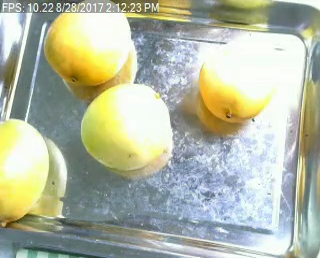Mango: (79, 85, 171, 167), (43, 0, 132, 83), (197, 37, 274, 121), (0, 116, 49, 225)
